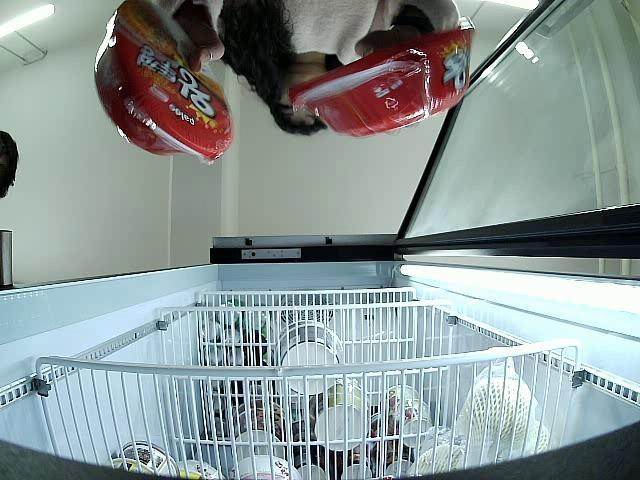10_wangTtukkeong: (90, 0, 236, 166), (290, 27, 474, 140)
